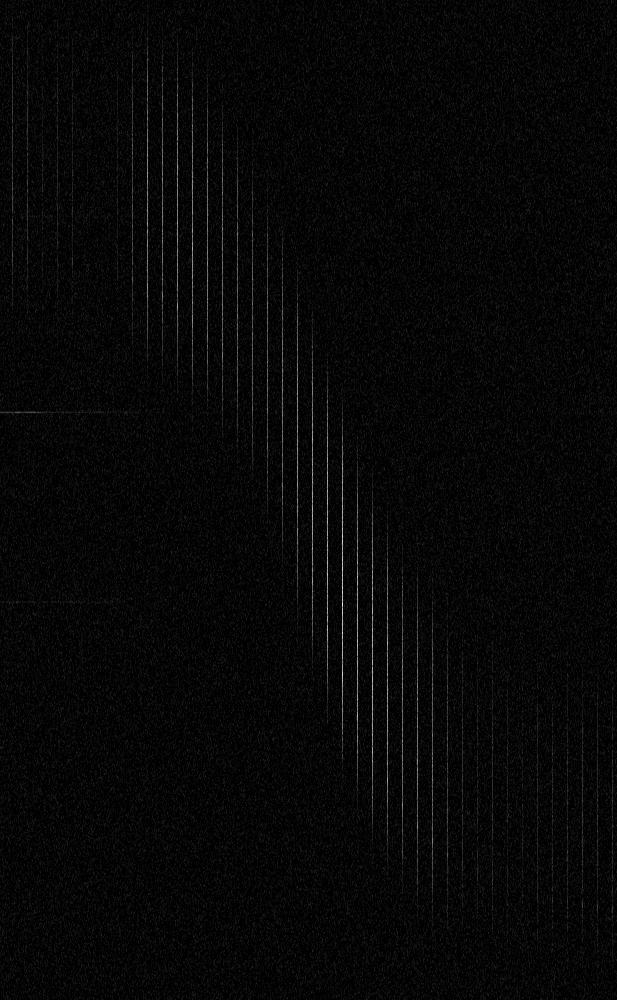signal: (0, 0, 616, 999)
